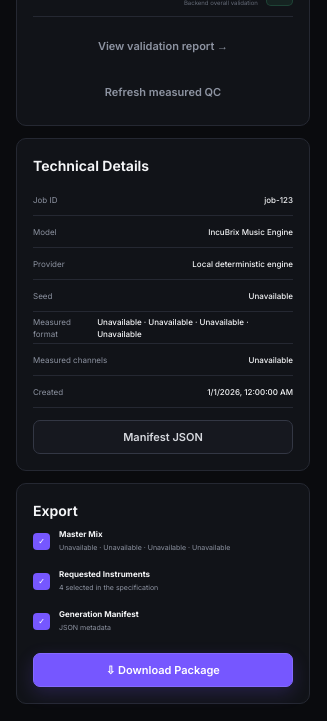
Test: Studio Module 7 rendering › downloads the backend package once and shows a loading state while it is being prepared
The image size is (327, 721).
(page scrolled)
Click the button "⇩ Download Package" at [163, 670], box [33, 653, 293, 687]
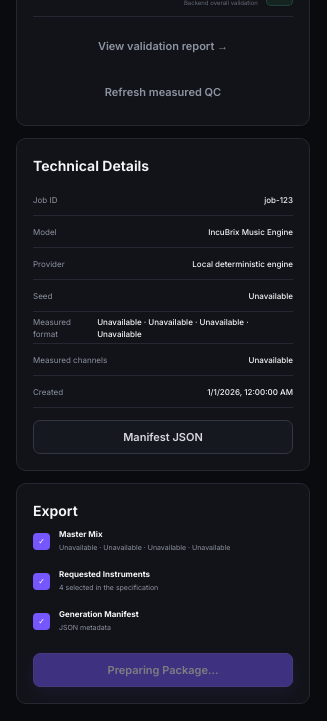
expect the button "Preparing Package..." is disabled: met
Click the button "Preparing Package..." at [163, 670], box [33, 653, 293, 687]
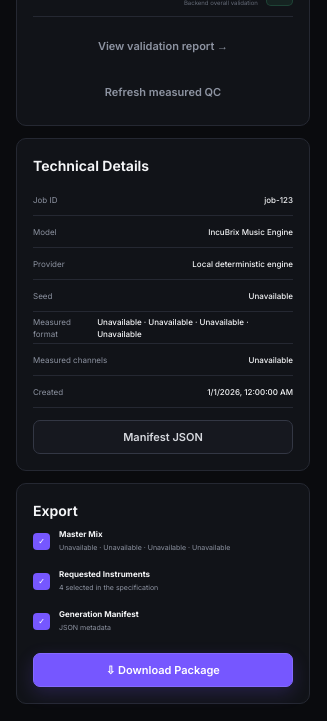
expect the button "⇩ Download Package" is enabled: met, box [33, 653, 293, 687]
